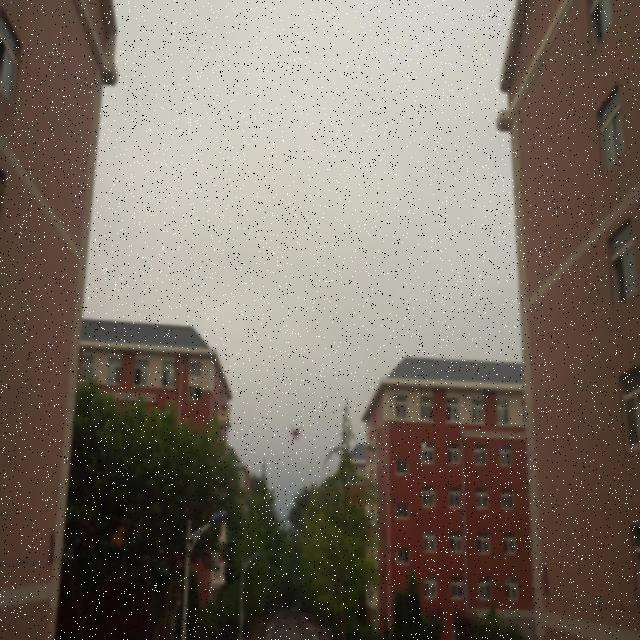UAV: (287, 427, 304, 441)
